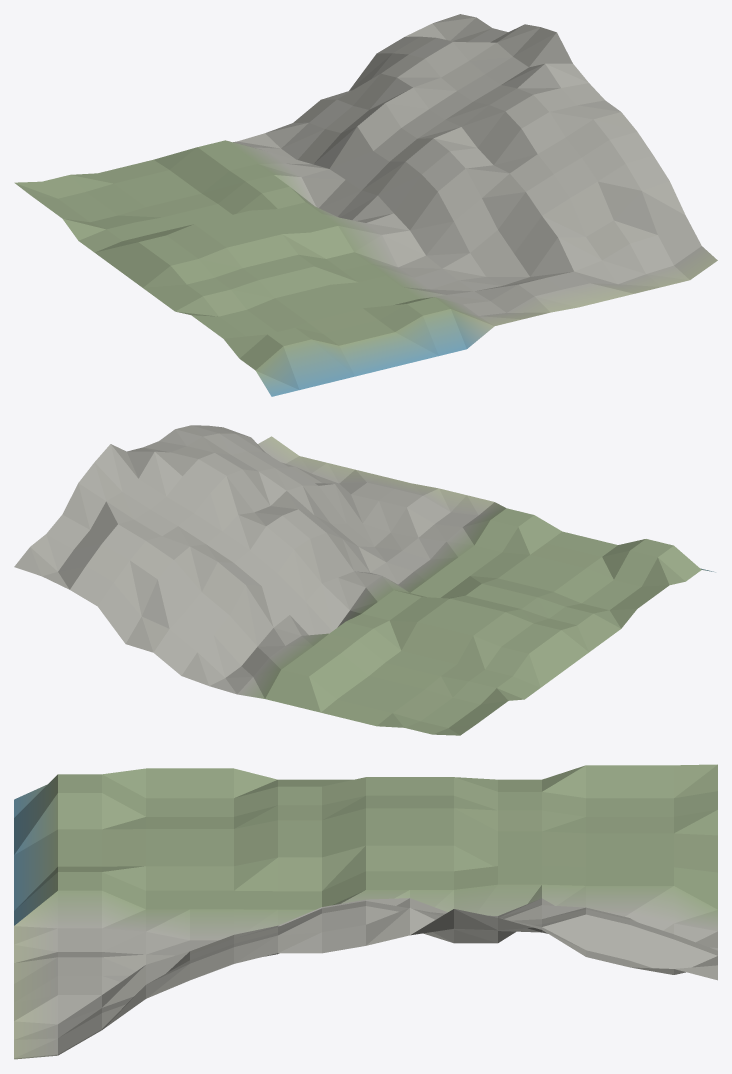
3 renders of one model, top to bottom at view 1: azimuth 30°, elevation 25°; view 2: azimuth 150°, elevation 25°; view 3: azimuth 270°, elevation 25°, orthographic. The views are drawn at different scales.
Bounding box in the file's own units: 32 × 9.44 × 32.
